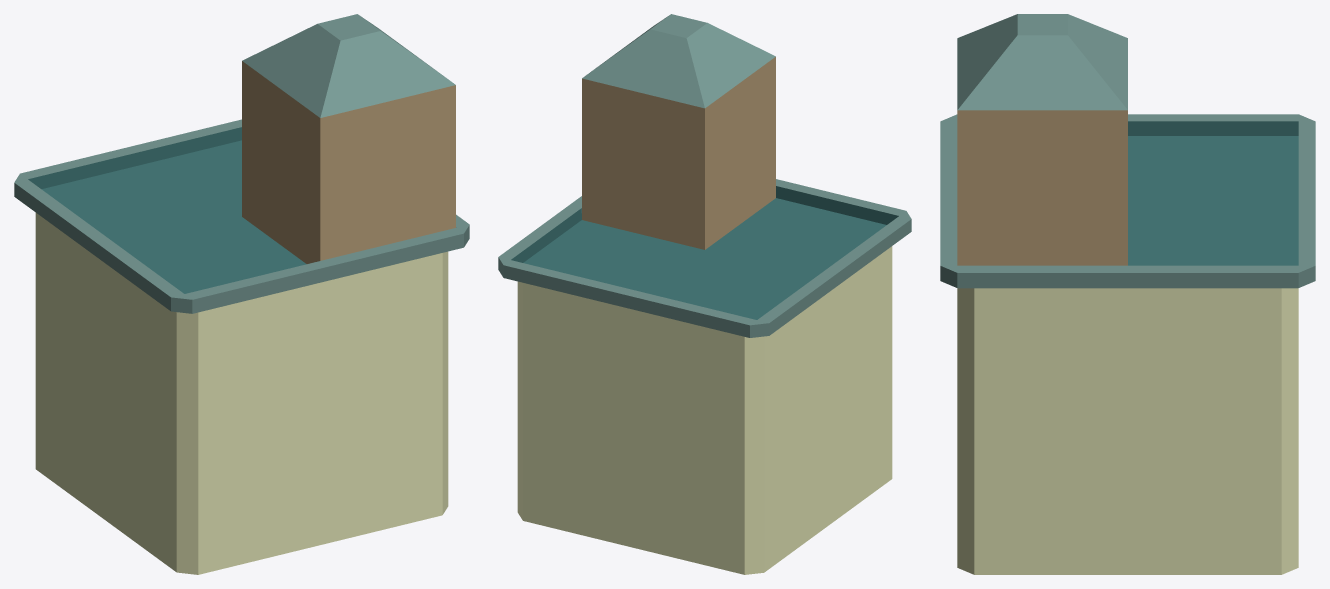
Rendered from ModuloBase02.fbx.
3 renders of one model, left to right at view 1: azimuth 30°, elevation 25°; view 2: azimuth 150°, elevation 25°; view 3: azimuth 270°, elevation 25°, orthographic. The views are drawn at different scales.
Parts seen in each view (by area): view 1: Cube.220; view 2: Cube.220; view 3: Cube.220.
Part boxes in pixels (bbox=[...]): Cube.220: bbox=[14, 14, 469, 574]; Cube.220: bbox=[498, 14, 911, 574]; Cube.220: bbox=[940, 14, 1315, 574].
Size of the model in its own units: 220 by 333 by 220.
